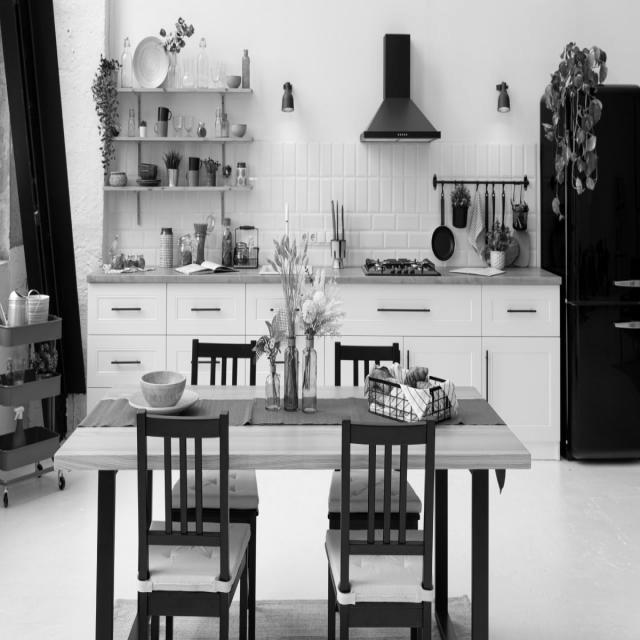table: (44, 350, 536, 500)
